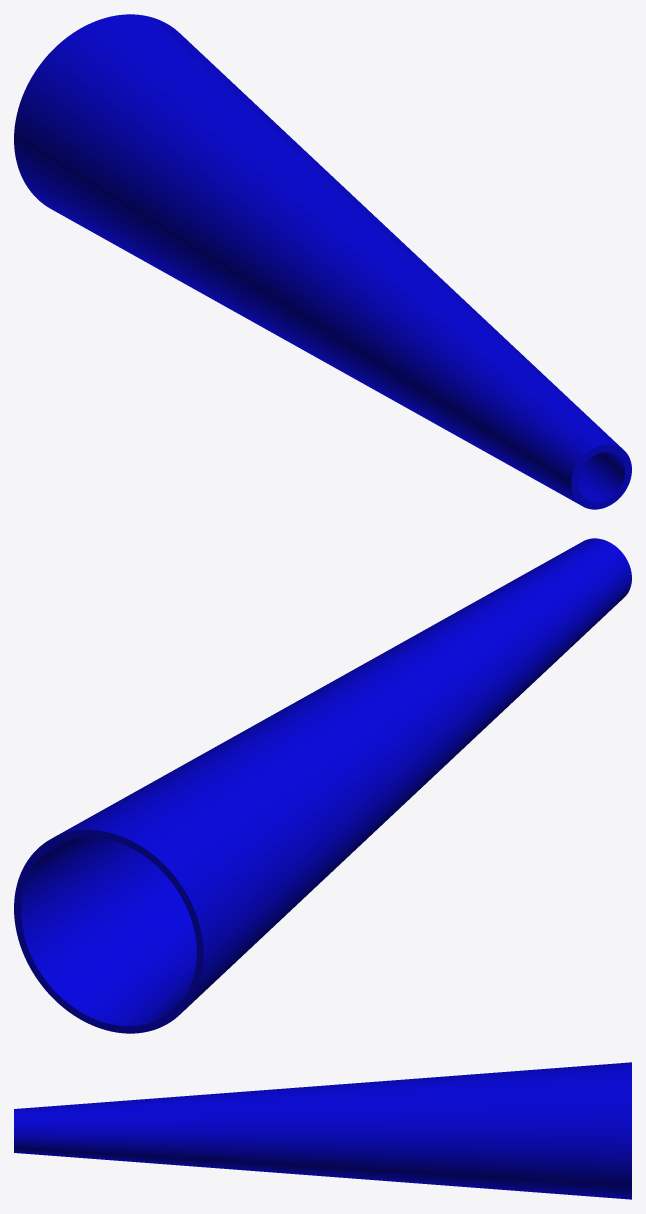
File: NozzleWCludding_left.gltf
The picture shows the model from 3 angles, top to bottom: view 1: azimuth 30°, elevation 25°; view 2: azimuth 150°, elevation 25°; view 3: azimuth 270°, elevation 25°; orthographic projection. The views are drawn at different scales.
Visible parts, largest first — view 1: NozzleWCludding_left; view 2: NozzleWCludding_left; view 3: NozzleWCludding_left.
Boxes of the visible parts, left/top/right/bottom form: NozzleWCludding_left: left=14, top=14, right=631, bottom=509; NozzleWCludding_left: left=14, top=538, right=631, bottom=1033; NozzleWCludding_left: left=14, top=1062, right=631, bottom=1199.
Bounding box in the file's own units: 1100 × 1100 × 4950.
